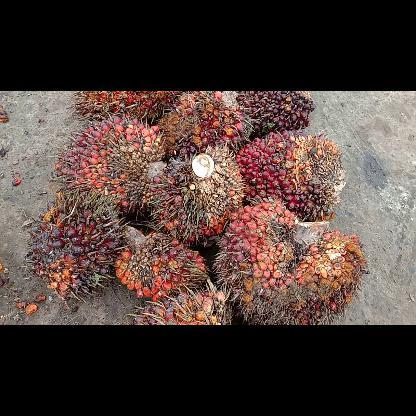TBS masak: (215, 204, 368, 322), (233, 128, 344, 220), (55, 117, 163, 209), (146, 146, 244, 244), (30, 199, 124, 297), (114, 226, 212, 298), (154, 91, 240, 157), (130, 290, 233, 324), (235, 93, 314, 137), (70, 91, 182, 122)
